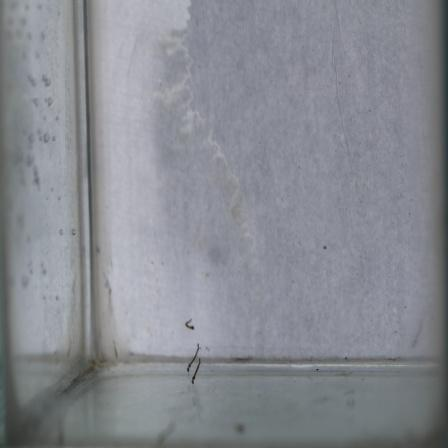Jentik-Nyamuk: (183, 339, 206, 388), (181, 312, 199, 337)
